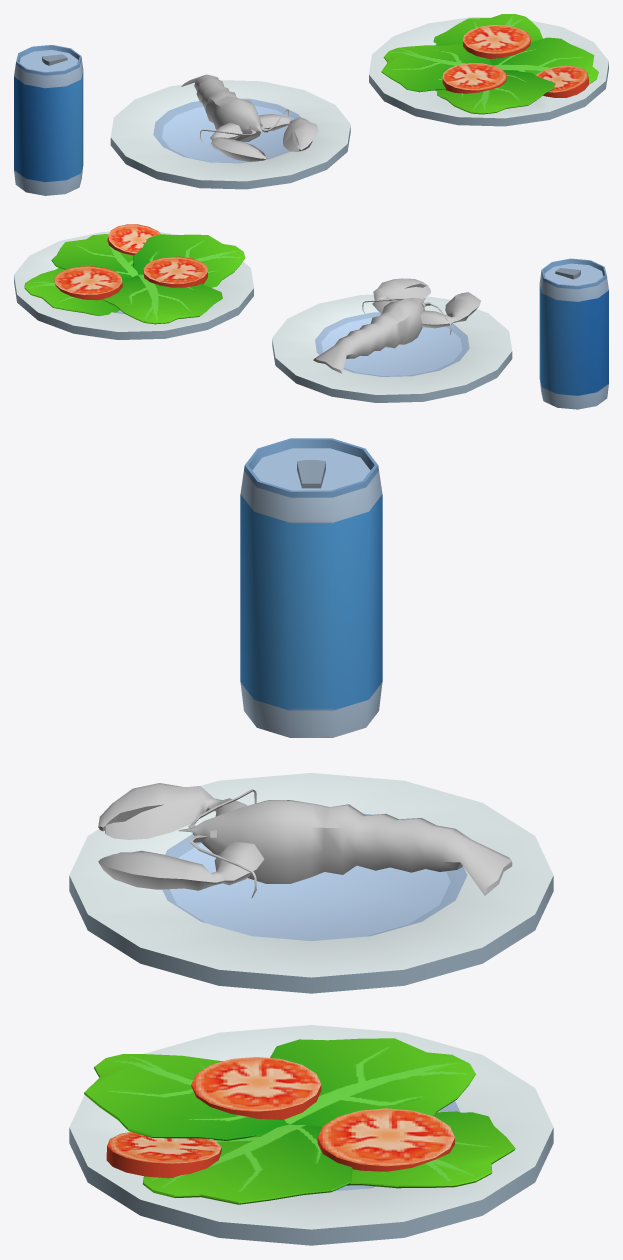
The picture shows the model from 3 angles, top to bottom: view 1: azimuth 30°, elevation 25°; view 2: azimuth 150°, elevation 25°; view 3: azimuth 270°, elevation 25°; orthographic projection. The views are drawn at different scales.
Parts seen in each view (by area): view 1: dia, chai, dia.001, tom, rau.006, rau, rau.003, rau.002, rau.001, rau.005, rau.004; view 2: dia, chai, dia.001, tom, rau.006, rau, rau.003, rau.002, rau.005, rau.001, rau.004; view 3: dia, chai, dia.001, tom, rau.006, rau, rau.003, rau.002, rau.001, rau.005, rau.004.
Part boxes in pixels (x1,y1,x2,y2): dia: (110, 80, 350, 189); chai: (14, 45, 83, 195); dia.001: (369, 17, 608, 126); tom: (181, 74, 318, 161); rau.006: (381, 44, 492, 92); rau: (435, 70, 554, 114); rau.003: (490, 37, 598, 84); rau.002: (463, 25, 530, 58); rau.001: (442, 63, 506, 93); rau.005: (433, 14, 542, 45); rau.004: (536, 65, 588, 97); dia: (272, 294, 512, 402); chai: (539, 258, 608, 409); dia.001: (14, 231, 253, 339); tom: (313, 278, 480, 373); rau.006: (103, 274, 222, 324); rau: (133, 234, 245, 287); rau.003: (51, 234, 138, 280); rau.002: (54, 266, 122, 300); rau.005: (24, 268, 119, 315); rau.001: (143, 256, 207, 287); rau.004: (107, 224, 160, 255); dia: (69, 773, 553, 993); chai: (240, 438, 382, 737); dia.001: (69, 1025, 553, 1245); tom: (98, 783, 512, 897); rau.006: (270, 1038, 475, 1126); rau: (84, 1054, 288, 1140); rau.003: (143, 1124, 352, 1204); rau.002: (317, 1108, 454, 1171); rau.001: (191, 1057, 321, 1119); rau.005: (346, 1111, 515, 1188); rau.004: (106, 1131, 221, 1178).
Bounding box in the file's own units: 204 × 44.38 × 74.6.
Materials: 1 (1 with a texture image).
